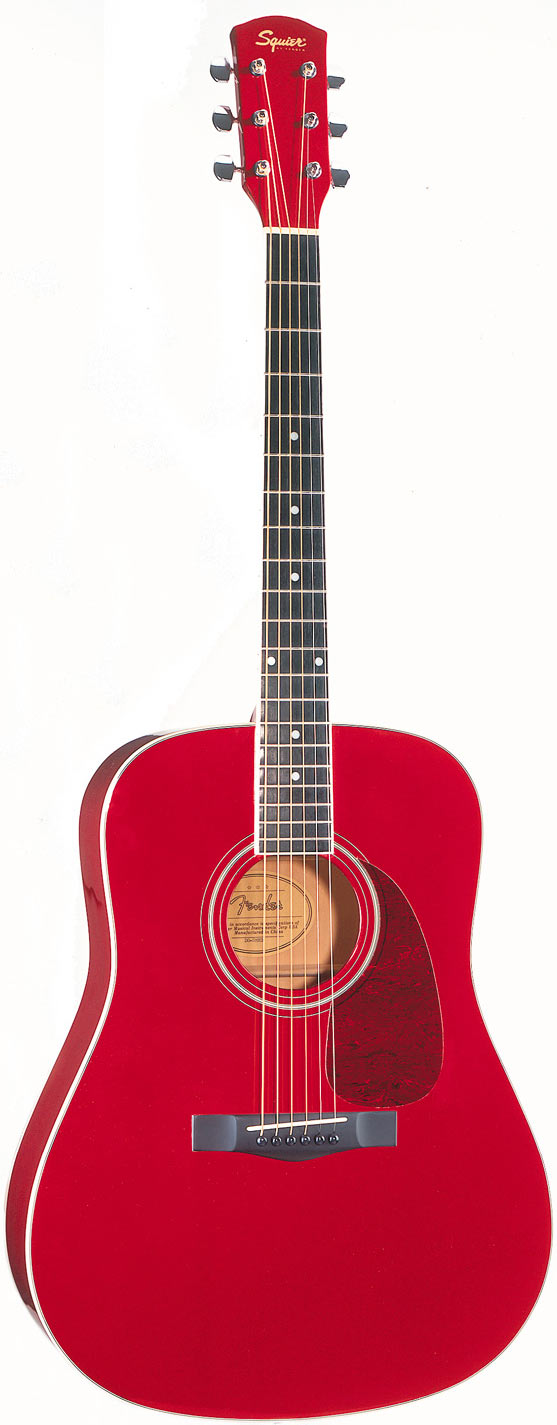guitar: (2, 16, 557, 1425)
